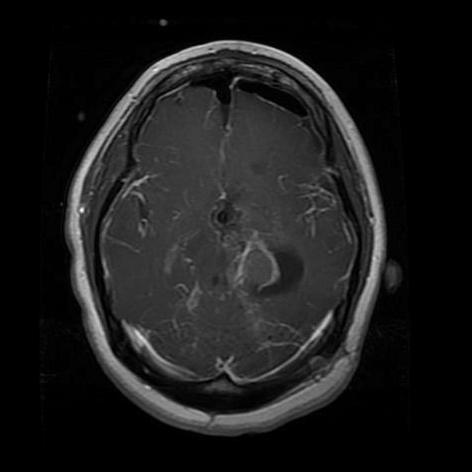Tumour-Glioma: (226, 240, 309, 310)
